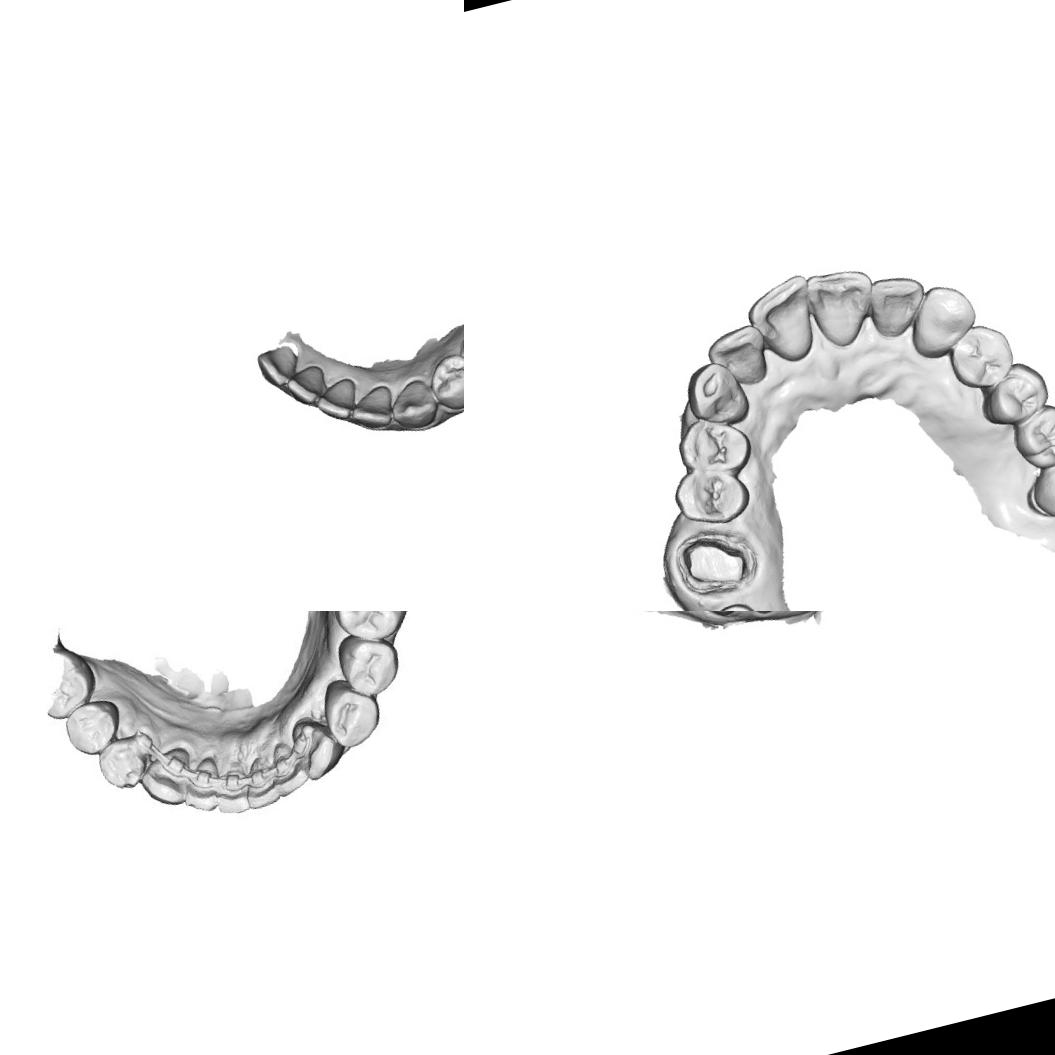canine: (899, 277, 984, 362), (677, 353, 753, 433), (93, 728, 160, 796), (383, 371, 443, 434), (288, 717, 342, 777)
crown: (672, 522, 762, 604)
implant: (707, 597, 765, 611)
incisor: (740, 270, 825, 370), (798, 260, 882, 354), (860, 266, 934, 341), (702, 319, 774, 395), (137, 750, 196, 808), (248, 337, 306, 393), (309, 372, 365, 428), (344, 382, 399, 436), (279, 357, 331, 410), (266, 742, 312, 800), (212, 761, 260, 816), (178, 754, 224, 810), (240, 752, 283, 808)
molar: (1004, 397, 1055, 475), (1014, 439, 1055, 529)
premolar: (668, 408, 758, 483), (667, 460, 754, 534), (975, 355, 1055, 430), (944, 318, 1018, 398), (60, 698, 124, 761), (321, 676, 382, 742), (337, 634, 399, 698), (423, 348, 464, 415)
